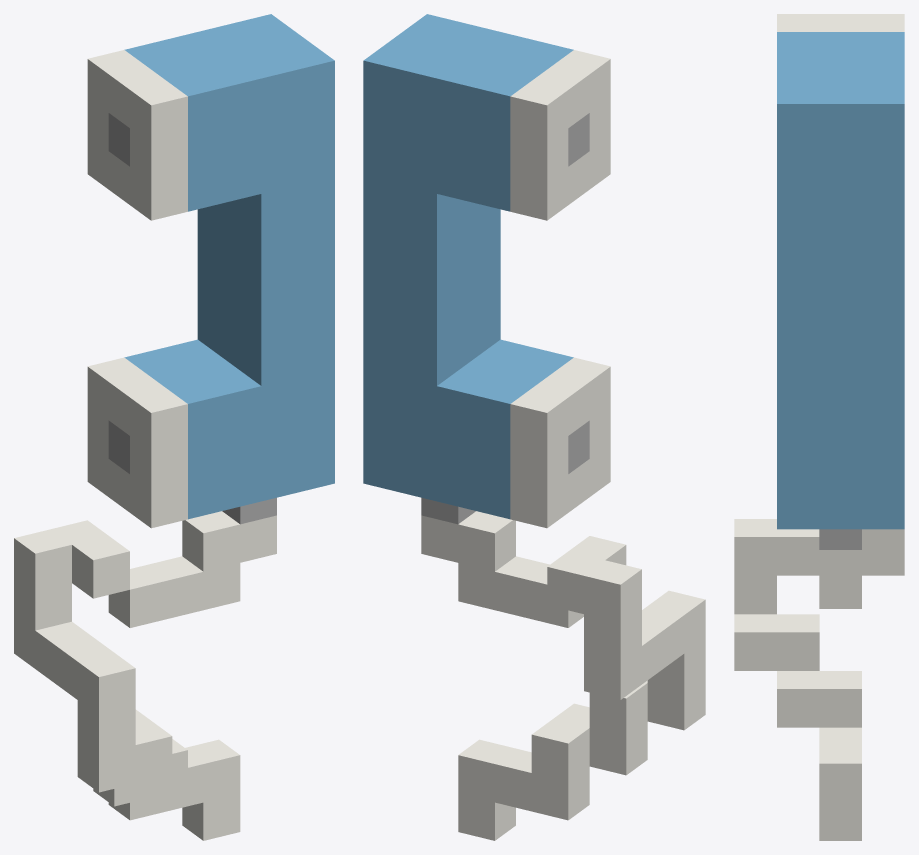
Rendered from phone.fbx.
The picture shows the model from 3 angles, left to right: view 1: azimuth 30°, elevation 25°; view 2: azimuth 150°, elevation 25°; view 3: azimuth 270°, elevation 25°; orthographic projection.
Visible parts, largest first — view 1: Default; view 2: Default; view 3: Default.
Boxes of the visible parts, x1,y1,x2,y2 form: Default: [14, 14, 334, 840]; Default: [363, 14, 705, 840]; Default: [734, 14, 904, 840].
Bounding box in the file's own units: 17.78 × 50.8 × 10.16.
Materials: 1 (1 with a texture image).
